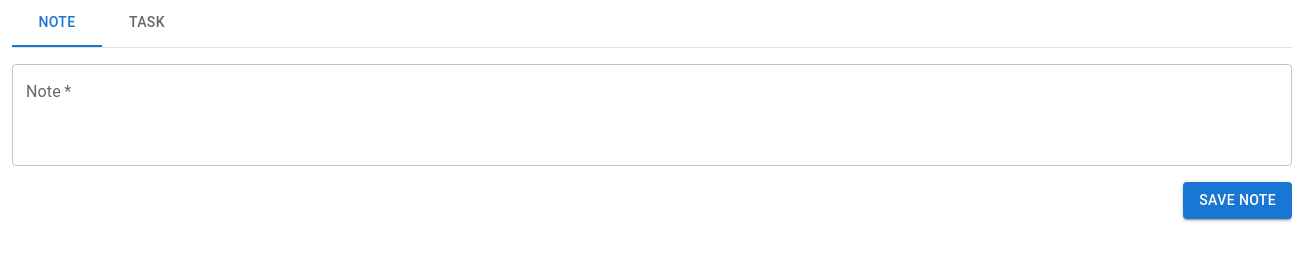
Test: NoteTaskForm › note validation › clears validation error when user starts typing
Trigger validation error
Click the button "Save Note" at (1238, 200), box [1183,182,1292,218]
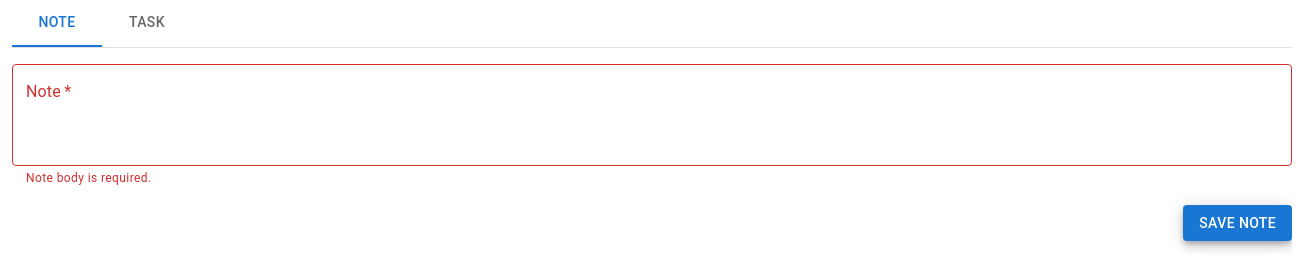
Now the text "Note body is required." is shown, box [26,171,152,185]
Start typing
Type "Some text" into the text box named "Note body" at (652, 115), box [26,80,1278,150]
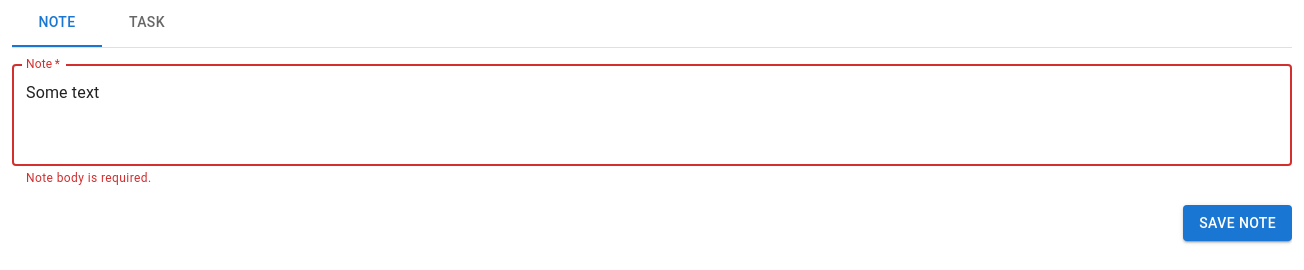
Click the button "Save Note" at (1238, 223), box [1183,205,1292,241]
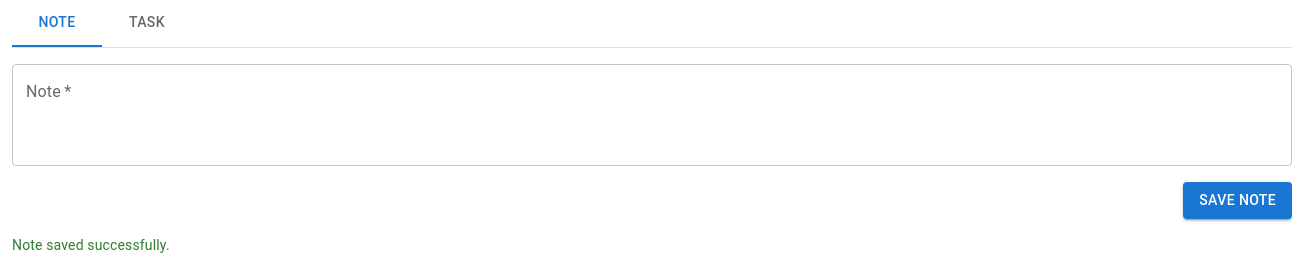
Now the text "Note body is required." is gone
